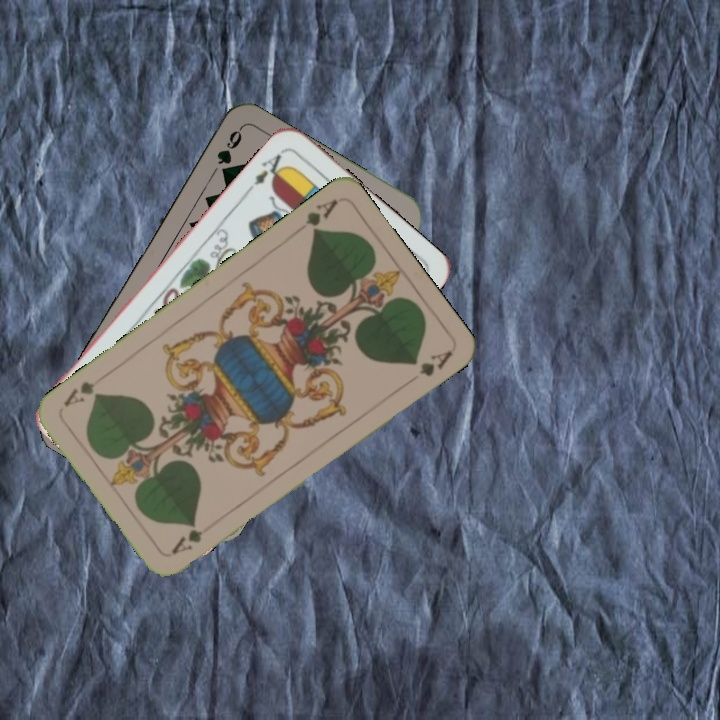EA: (242, 146, 290, 195)
G9: (213, 124, 245, 167)
GA: (167, 519, 219, 557), (301, 195, 341, 237)
